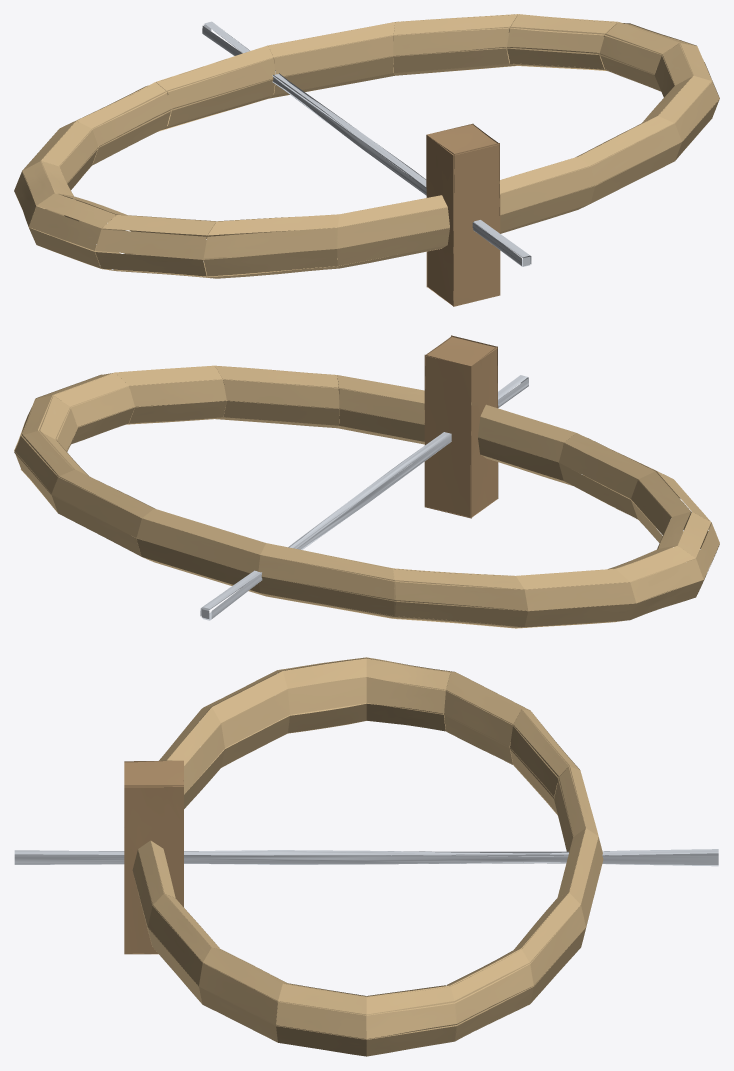
Rendered from bow.glb.
3 renders of one model, top to bottom at view 1: azimuth 30°, elevation 25°; view 2: azimuth 150°, elevation 25°; view 3: azimuth 270°, elevation 25°, orthographic. The views are drawn at different scales.
Parts seen in each view (by area): view 1: BowCurve; view 2: BowCurve; view 3: BowCurve.
Part boxes in pixels (box(x1,y1,x2,y2)): BowCurve: box(14, 14, 719, 306); BowCurve: box(14, 335, 719, 628); BowCurve: box(14, 657, 718, 1056).
Bounding box in the file's own units: 1.3 × 0.2801 × 1.06.
